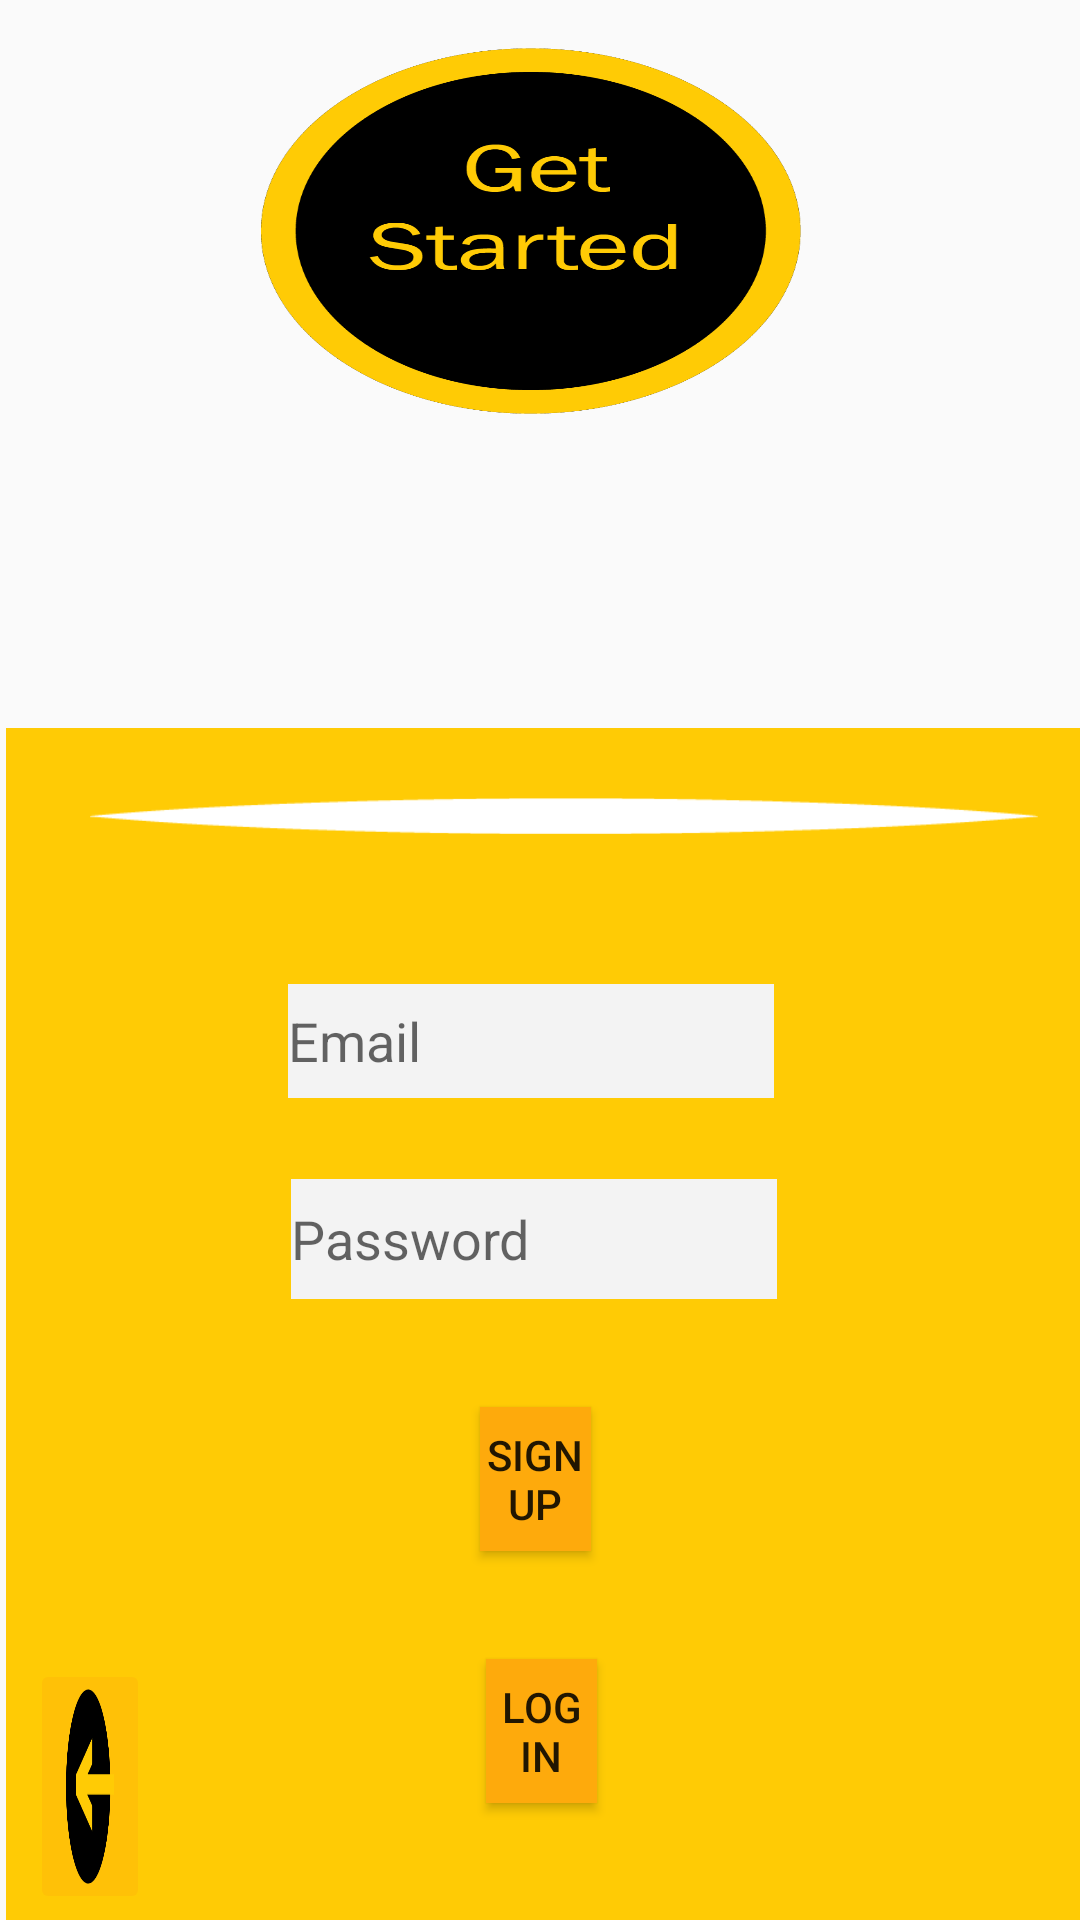

Icon click points for this 1080px×1920px phone screenshot, format (x=x, y=y):
back: (x=88, y=1786)
